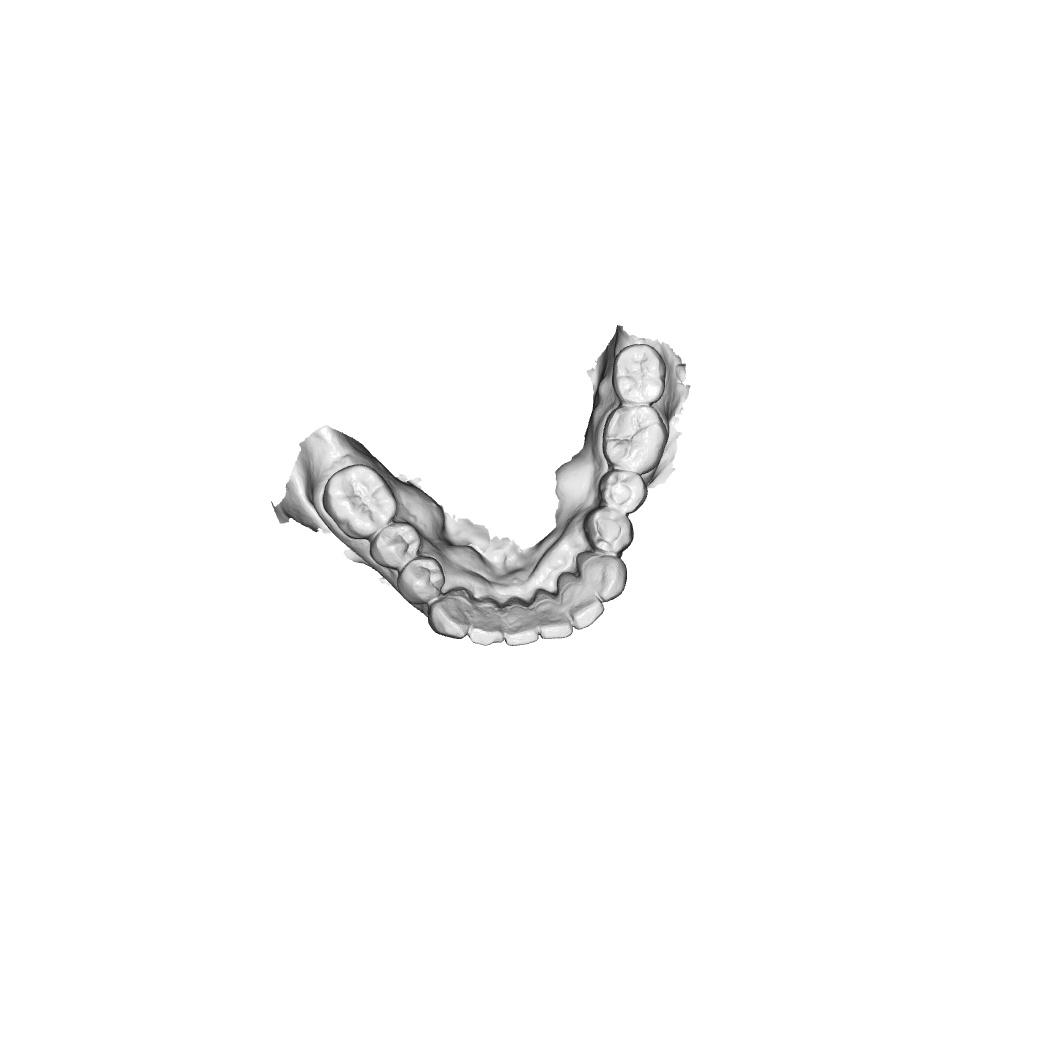canine: (575, 550, 628, 603), (427, 587, 469, 640)
incisor: (562, 581, 606, 631), (535, 596, 574, 641), (504, 597, 539, 647), (468, 598, 504, 646)
molar: (322, 463, 398, 540), (602, 405, 669, 476), (610, 342, 667, 406)
premolar: (369, 520, 421, 571), (396, 556, 447, 606), (582, 506, 635, 554), (597, 468, 648, 515)
